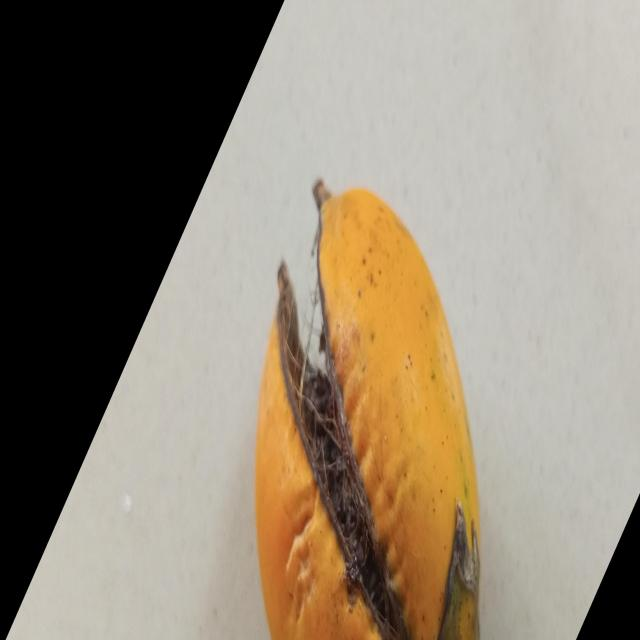damaged: (255, 184, 482, 640)
